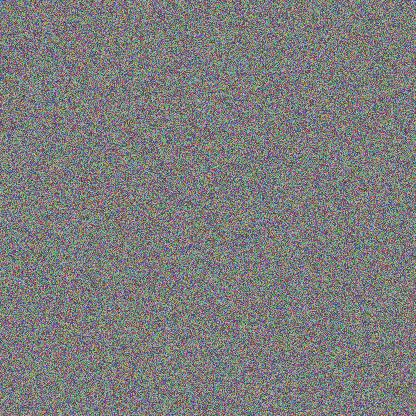empty: (148, 66, 224, 149), (54, 140, 144, 210), (165, 187, 231, 239)
